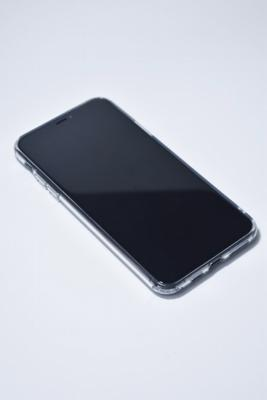Mobile Phone: (13, 95, 259, 298)
